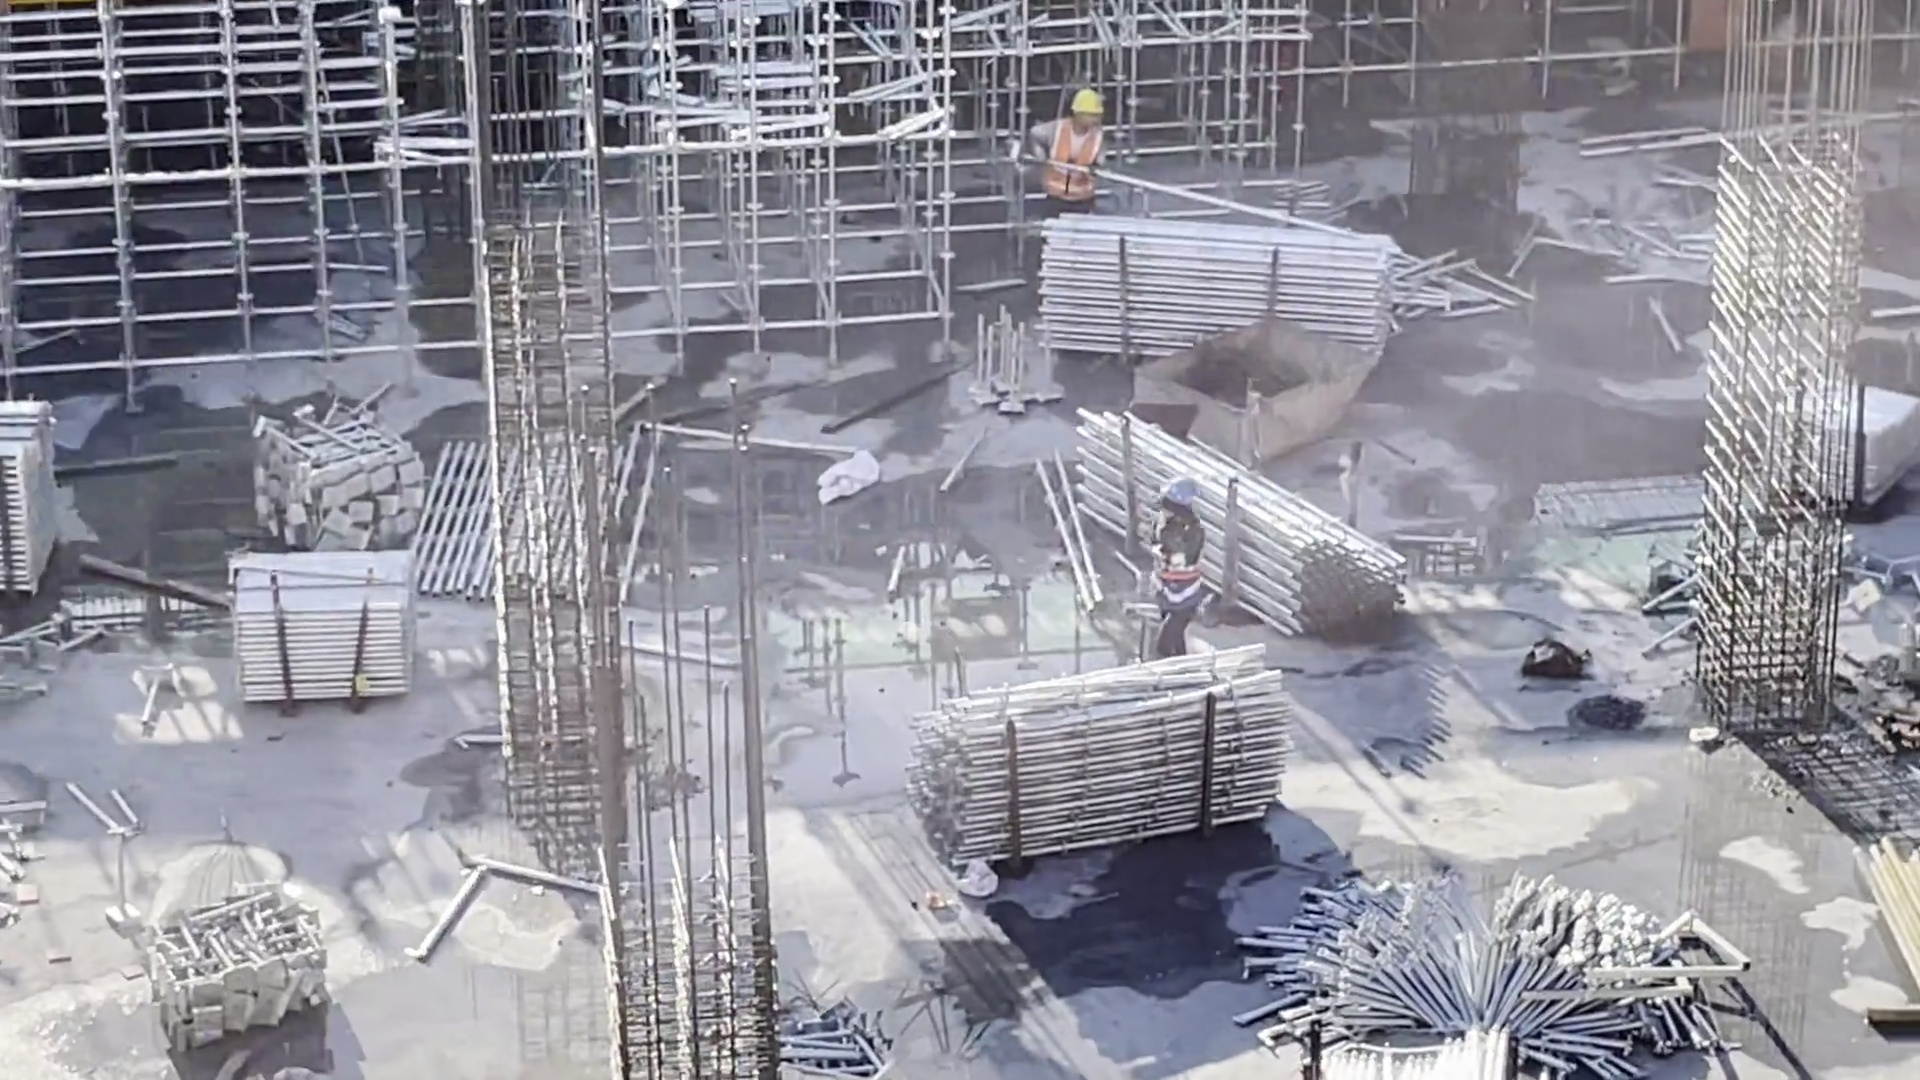helmet: (1159, 469, 1191, 515), (1069, 90, 1107, 119)
hopper: (1126, 305, 1385, 471)
person: (1143, 469, 1214, 674), (1022, 82, 1114, 211)
scaffold: (1252, 860, 1706, 1059), (1063, 393, 1401, 641), (1021, 195, 1437, 384), (915, 656, 1304, 852), (230, 549, 428, 713), (130, 876, 328, 1030), (258, 402, 420, 560), (1767, 375, 1915, 511), (1296, 999, 1526, 1080), (1, 392, 78, 600)
vest: (1151, 527, 1211, 612), (1046, 113, 1098, 199)
